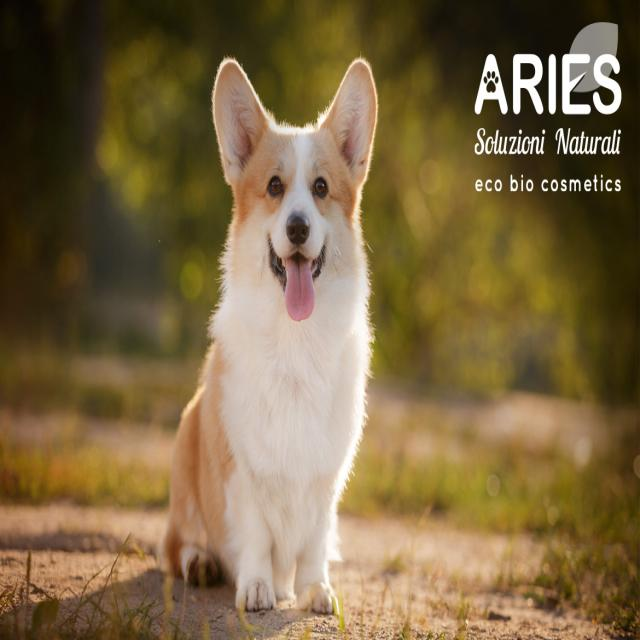CORGI: (130, 48, 392, 615)
